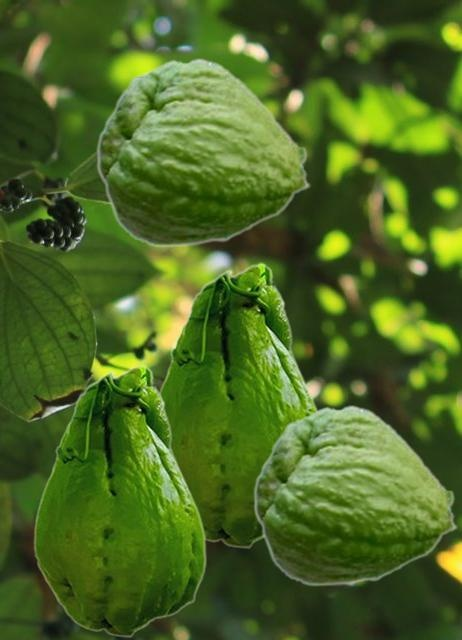sayote: (33, 364, 206, 637), (158, 262, 319, 548), (96, 57, 311, 247), (253, 404, 458, 586)
